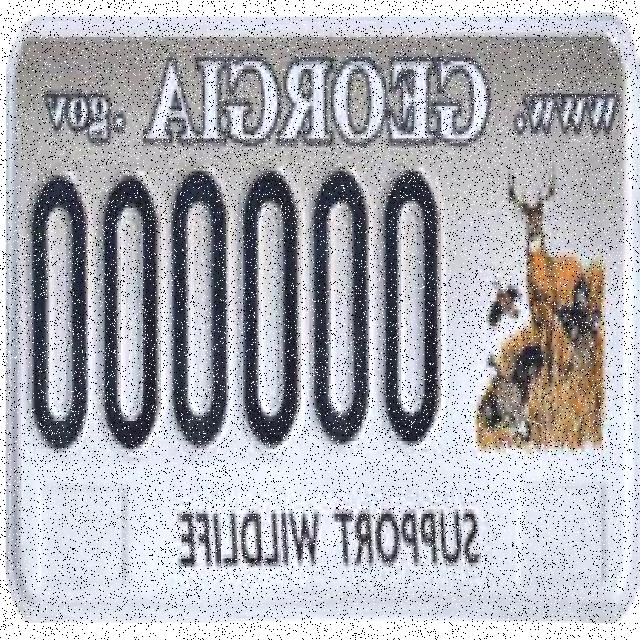licenseplate: (11, 162, 454, 464)
